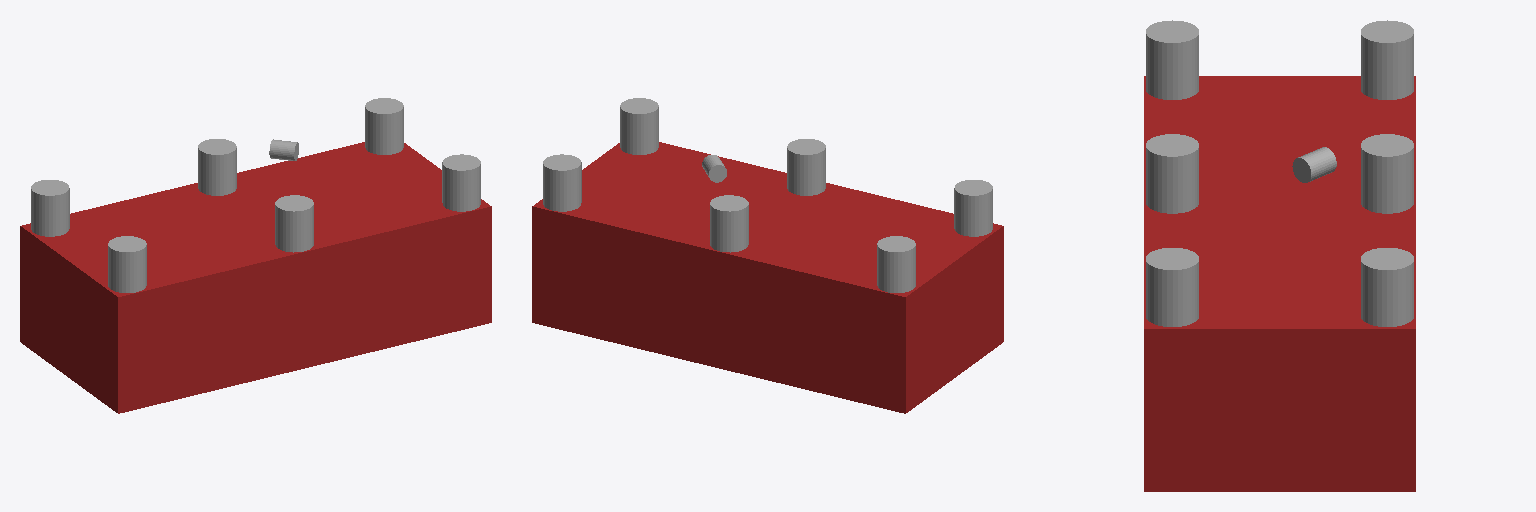
URDF robot description (fairino5_v6_robot):
<?xml version="1.0" encoding="utf-8"?>
<!-- This URDF was automatically created by SolidWorks to URDF Exporter! Originally created by Stephen Brawner (brawner@gmail.com) 
     Commit Version: 1.5.1-0-g916b5db  Build Version: 1.5.7152.31018
     For more information, please see http://wiki.ros.org/sw_urdf_exporter -->
<robot
  name="fairino5_v6_robot">
  <link
    name="base_link">
    <inertial>
      <origin
        xyz="-0.00031896 -0.00029673 0.042463"
        rpy="0 0 0" />
      <mass
        value="1.6185" />
      <inertia
        ixx="0.0030836"
        ixy="1.5354E-05"
        ixz="-1.9315E-05"
        iyy="0.0030825"
        iyz="-1.7918E-05"
        izz="0.0045209" />
    </inertial>
    <visual>
      <origin
        xyz="0 0 0"
        rpy="0 0 0" />
      <geometry>
        <mesh
          filename="package://fairino_description/meshes/fairino5_v6/base_link.STL" />
      </geometry>
      <material
        name="">
        <color
          rgba="0.89804 0.91765 0.92941 1" />
      </material>
    </visual>
    <collision>
      <origin
        xyz="0 0 0"
        rpy="0 0 0" />
      <geometry>
        <mesh
          filename="package://fairino_description/meshes/fairino5_v6/base_link.STL" />
      </geometry>
    </collision>
  </link>

  <!-- ===== Added cylinder link under base_link ===== -->
  <link name="zylinder_base">
    <!-- Optional inertial (recommended if you use physics sim) -->
    <inertial>
      <origin xyz="0 0 0" rpy="0 0 0"/>
      <mass value="0.1"/>
      <!-- Rough inertia for a solid cylinder aligned with Z axis (placeholder values) -->
      <inertia ixx="1e-4" ixy="0" ixz="0" iyy="1e-4" iyz="0" izz="1e-4"/>
    </inertial>

    <collision name="zylinder_collision">
      <origin xyz="0 0 0" rpy="0 0 0"/>
      <geometry>
        <cylinder radius="0.150" length="0.353"/>
      </geometry>
    </collision>

    <visual name="zylinder_visual">
      <origin xyz="0 0 0" rpy="0 0 0"/>
      <geometry>
        <cylinder radius="0.150" length="0.353"/>
      </geometry>
      <material name="zylinder_mat">
        <color rgba="0.7 0.7 0.7 0.2"/>
      </material>
    </visual>
  </link>

  <joint name="base_to_zylinder" type="fixed">
    <parent link="zylinder_base"/>
    <child link="base_link"/>
    <!-- 
      Letakkan cylinder "di bawah" base_link (arah -Z).
      Ubah nilai z sesuai kebutuhan. Contoh: z = -0.2 artinya 20 cm di bawah base_link.
    -->
    <origin xyz="0 0 0.175" rpy="0 0 3.92699"/>
  </joint>
  <!-- ===== End added cylinder ===== -->

  <!-- ===== Added cylinder link  ===== -->
  <link name="zylinder_1_link">
    <!-- Optional inertial (recommended if you use physics sim) -->
    <inertial>
      <origin xyz="0 0 0" rpy="0 0 0"/>
      <mass value="0.1"/>
      <!-- Rough inertia for a solid cylinder aligned with Z axis (placeholder values) -->
      <inertia ixx="1e-4" ixy="0" ixz="0" iyy="1e-4" iyz="0" izz="1e-4"/>
    </inertial>

    <collision name="zylinder1_collision">
      <origin xyz="0 0 0" rpy="0 0 0"/>
      <geometry>
        <cylinder radius="0.150" length="0.353"/>
      </geometry>
    </collision>

    <visual name="zylinder1_visual">
      <origin xyz="0 0 0" rpy="0 0 0"/>
      <geometry>
        <cylinder radius="0.150" length="0.353"/>
      </geometry>
      <material name="zylinder1_mat">
        <color rgba="0.7 0.7 0.7 0.2"/>
      </material>
    </visual>
  </link>
  <!-- ===== End added cylinder ===== -->

  <!-- ===== Added cylinder link  ===== -->
  <link name="zylinder_2_link">
    <!-- Optional inertial (recommended if you use physics sim) -->
    <inertial>
      <origin xyz="0 0 0" rpy="0 0 0"/>
      <mass value="0.1"/>
      <!-- Rough inertia for a solid cylinder aligned with Z axis (placeholder values) -->
      <inertia ixx="1e-4" ixy="0" ixz="0" iyy="1e-4" iyz="0" izz="1e-4"/>
    </inertial>

    <collision name="zylinder2_collision">
      <origin xyz="0 0 0" rpy="0 0 0"/>
      <geometry>
        <cylinder radius="0.150" length="0.353"/>
      </geometry>
    </collision>

    <visual name="zylinder2_visual">
      <origin xyz="0 0 0" rpy="0 0 0"/>
      <geometry>
        <cylinder radius="0.150" length="0.353"/>
      </geometry>
      <material name="zylinder2_mat">
        <color rgba="0.7 0.7 0.7 0.2"/>
      </material>
    </visual>
  </link>
  <!-- ===== End added cylinder ===== -->

  <!-- ===== Added cylinder link  ===== -->
  <link name="zylinder_3_link">
    <!-- Optional inertial (recommended if you use physics sim) -->
    <inertial>
      <origin xyz="0 0 0" rpy="0 0 0"/>
      <mass value="0.1"/>
      <!-- Rough inertia for a solid cylinder aligned with Z axis (placeholder values) -->
      <inertia ixx="1e-4" ixy="0" ixz="0" iyy="1e-4" iyz="0" izz="1e-4"/>
    </inertial>

    <collision name="zylinder3_collision">
      <origin xyz="0 0 0" rpy="0 0 0"/>
      <geometry>
        <cylinder radius="0.150" length="0.353"/>
      </geometry>
    </collision>

    <visual name="zylinder3_visual">
      <origin xyz="0 0 0" rpy="0 0 0"/>
      <geometry>
        <cylinder radius="0.150" length="0.353"/>
      </geometry>
      <material name="zylinder3_mat">
        <color rgba="0.7 0.7 0.7 0.2"/>
      </material>
    </visual>
  </link>
  <!-- ===== End added cylinder ===== -->

  <!-- ===== Added cylinder link  ===== -->
  <link name="zylinder_4_link">
    <!-- Optional inertial (recommended if you use physics sim) -->
    <inertial>
      <origin xyz="0 0 0" rpy="0 0 0"/>
      <mass value="0.1"/>
      <!-- Rough inertia for a solid cylinder aligned with Z axis (placeholder values) -->
      <inertia ixx="1e-4" ixy="0" ixz="0" iyy="1e-4" iyz="0" izz="1e-4"/>
    </inertial>

    <collision name="zylinder4_collision">
      <origin xyz="0 0 0" rpy="0 0 0"/>
      <geometry>
        <cylinder radius="0.150" length="0.353"/>
      </geometry>
    </collision>

    <visual name="zylinder4_visual">
      <origin xyz="0 0 0" rpy="0 0 0"/>
      <geometry>
        <cylinder radius="0.150" length="0.353"/>
      </geometry>
      <material name="zylinder4_mat">
        <color rgba="0.7 0.7 0.7 0.2"/>
      </material>
    </visual>
  </link>
  <!-- ===== End added cylinder ===== -->

  <!-- ===== Added cylinder link  ===== -->
  <link name="zylinder_5_link">
    <!-- Optional inertial (recommended if you use physics sim) -->
    <inertial>
      <origin xyz="0 0 0" rpy="0 0 0"/>
      <mass value="0.1"/>
      <!-- Rough inertia for a solid cylinder aligned with Z axis (placeholder values) -->
      <inertia ixx="1e-4" ixy="0" ixz="0" iyy="1e-4" iyz="0" izz="1e-4"/>
    </inertial>

    <collision name="zylinder5_collision">
      <origin xyz="0 0 0" rpy="0 0 0"/>
      <geometry>
        <cylinder radius="0.150" length="0.353"/>
      </geometry>
    </collision>

    <visual name="zylinder5_visual">
      <origin xyz="0 0 0" rpy="0 0 0"/>
      <geometry>
        <cylinder radius="0.150" length="0.353"/>
      </geometry>
      <material name="zylinder5_mat">
        <color rgba="0.7 0.7 0.7 0.2"/>
      </material>
    </visual>
  </link>
  <!-- ===== End added cylinder ===== -->

  <!-- ===== Added Tisch link under zylinder_base ===== -->
  <link name="Tisch">
    <inertial>
      <origin xyz="0 0 0" rpy="0 0 0"/>
      <mass value="100"/>
      <inertia ixx="1e-4" ixy="0" ixz="0" iyy="1e-4" iyz="0" izz="1e-4"/>
    </inertial>

    <collision name="tisch_collision">
      <origin xyz="0 0 0" rpy="0 0 0"/>
      <geometry>
          <box size="3.35 1.52 1"/>
      </geometry>
    </collision>

    <visual name="tisch_visual">
      <origin xyz="0 0 0" rpy="0 0 0"/>
      <geometry>
          <box size="3.35 1.52 1"/>
      </geometry>
      <material name="tisch_mat">
        <color rgba="0.7 0.2 0.2 1"/>
      </material>
    </visual>
  </link>

  <joint name="Tisch_Joint" type="fixed">
    <parent link="Tisch"/>
    <child link="zylinder_base"/>
    <origin xyz="0 -0.6 0.675" rpy="0 0 0"/>
  </joint>

  <joint name="Tisch_Zylinder1_Joint" type="fixed">
    <parent link="Tisch"/>
    <child link="zylinder_1_link"/>
    <origin xyz="1.5 -0.6 0.675" rpy="0 0 0"/>
  </joint>

  <joint name="Tisch_Zylinder2_Joint" type="fixed">
    <parent link="Tisch"/>
    <child link="zylinder_2_link"/>
    <origin xyz="-1.5 -0.6 0.675" rpy="0 0 0"/>
  </joint>

  <joint name="Tisch_Zylinder3_Joint" type="fixed">
    <parent link="Tisch"/>
    <child link="zylinder_3_link"/>
    <origin xyz="0 0.6 0.675" rpy="0 0 0"/>
  </joint>

  <joint name="Tisch_Zylinder4_Joint" type="fixed">
    <parent link="Tisch"/>
    <child link="zylinder_4_link"/>
    <origin xyz="1.5 0.6 0.675" rpy="0 0 0"/>
  </joint>

  <joint name="Tisch_Zylinder5_Joint" type="fixed">
    <parent link="Tisch"/>
    <child link="zylinder_5_link"/>
    <origin xyz="-1.5 0.6 0.675" rpy="0 0 0"/>
  </joint>

  <!-- ===== End added Tisch ===== -->

  <link
    name="shoulder_link">
    <inertial>
      <origin
        xyz="5.0029E-07 -0.0040922 0.14629"
        rpy="0 0 0" />
      <mass
        value="4.3771" />
      <inertia
        ixx="0.010731"
        ixy="-8.0587E-09"
        ixz="-3.6773E-08"
        iyy="0.010408"
        iyz="0.00012853"
        izz="0.0081793" />
    </inertial>
    <visual>
      <origin
        xyz="0 0 0"
        rpy="0 0 0" />
      <geometry>
        <mesh
          filename="package://fairino_description/meshes/fairino5_v6/shoulder_link.STL" />
      </geometry>
      <material
        name="">
        <color
          rgba="0.89804 0.91765 0.92941 1" />
      </material>
    </visual>
    <collision>
      <origin
        xyz="0 0 0"
        rpy="0 0 0" />
      <geometry>
        <mesh
          filename="package://fairino_description/meshes/fairino5_v6/shoulder_link.STL" />
      </geometry>
    </collision>
  </link>
  <joint
    name="j1"
    type="revolute">
    <origin
      xyz="0 0 0"
      rpy="0 0 0" />
    <parent
      link="base_link" />
    <child
      link="shoulder_link" />
    <axis
      xyz="0 0 1" />
    <limit
      lower="-3.0543"
      upper="3.0543"
      effort="150"
      velocity="3.15" />
    <calibration
      rising="0"
      falling="0" />
    <dynamics
      damping="0"
      friction="0" />
    <safety_controller
      soft_lower_limit="-3.0543"
      soft_upper_limit="3.0543"
      k_position="15"
      k_velocity="10" />
  </joint>
  <link
    name="upperarm_link">
    <inertial>
      <origin
        xyz="-0.2125 -5.7643E-09 0.1346"
        rpy="0 0 0" />
      <mass
        value="14.458" />
      <inertia
        ixx="0.028392"
        ixy="-1.337E-07"
        ixz="-3.9895E-09"
        iyy="0.4559"
        iyz="4.214E-08"
        izz="0.44974" />
    </inertial>
    <visual>
      <origin
        xyz="0 0 0"
        rpy="0 0 0" />
      <geometry>
        <mesh
          filename="package://fairino_description/meshes/fairino5_v6/upperarm_link.STL" />
      </geometry>
      <material
        name="">
        <color
          rgba="0.89804 0.91765 0.92941 1" />
      </material>
    </visual>
    <collision>
      <origin
        xyz="0 0 0"
        rpy="0 0 0" />
      <geometry>
        <mesh
          filename="package://fairino_description/meshes/fairino5_v6/upperarm_link.STL" />
      </geometry>
    </collision>
  </link>
  <joint
    name="j2"
    type="revolute">
    <origin
      xyz="0 0 0.152"
      rpy="1.5708 0 0" />
    <parent
      link="shoulder_link" />
    <child
      link="upperarm_link" />
    <axis
      xyz="0 0 1" />
    <limit
      lower="-4.6251"
      upper="1.4835"
      effort="150"
      velocity="3.15" />
    <calibration
      rising="0"
      falling="0" />
    <dynamics
      damping="0"
      friction="0" />
    <safety_controller
      soft_lower_limit="-4.6251"
      soft_upper_limit="1.4835"
      k_position="15"
      k_velocity="10" />
  </joint>
  <link
    name="forearm_link">
    <inertial>
      <origin
        xyz="-0.18793 -8.4503E-07 0.0066357"
        rpy="0 0 0" />
      <mass
        value="7.6737" />
      <inertia
        ixx="0.0085096"
        ixy="2.1613E-06"
        ixz="-0.0068678"
        iyy="0.16971"
        iyz="3.7086E-08"
        izz="0.16854" />
    </inertial>
    <visual>
      <origin
        xyz="0 0 0"
        rpy="0 0 0" />
      <geometry>
        <mesh
          filename="package://fairino_description/meshes/fairino5_v6/forearm_link.STL" />
      </geometry>
      <material
        name="">
        <color
          rgba="0.89804 0.91765 0.92941 1" />
      </material>
    </visual>
    <collision>
      <origin
        xyz="0 0 0"
        rpy="0 0 0" />
      <geometry>
        <mesh
          filename="package://fairino_description/meshes/fairino5_v6/forearm_link.STL" />
      </geometry>
    </collision>
  </link>
  <joint
    name="j3"
    type="revolute">
    <origin
      xyz="-0.425 0 0"
      rpy="0 0 0" />
    <parent
      link="upperarm_link" />
    <child
      link="forearm_link" />
    <axis
      xyz="0 0 1" />
    <limit
      lower="-2.8274"
      upper="2.8274"
      effort="150"
      velocity="3.15" />
    <calibration
      rising="0"
      falling="0" />
    <dynamics
      damping="0"
      friction="0" />
    <safety_controller
      soft_lower_limit="-2.8274"
      soft_upper_limit="2.8274"
      k_position="15"
      k_velocity="10" />
  </joint>
  <link
    name="wrist1_link">
    <inertial>
      <origin
        xyz="4.98E-07 -0.003754 0.097155"
        rpy="0 0 0" />
      <mass
        value="1.6266" />
      <inertia
        ixx="0.00216"
        ixy="4.888E-09"
        ixz="3.1528E-08"
        iyy="0.0015455"
        iyz="3.7678E-05"
        izz="0.0019902" />
    </inertial>
    <visual>
      <origin
        xyz="0 0 0"
        rpy="0 0 0" />
      <geometry>
        <mesh
          filename="package://fairino_description/meshes/fairino5_v6/wrist1_link.STL" />
      </geometry>
      <material
        name="">
        <color
          rgba="0.89804 0.91765 0.92941 1" />
      </material>
    </visual>
    <collision>
      <origin
        xyz="0 0 0"
        rpy="0 0 0" />
      <geometry>
        <mesh
          filename="package://fairino_description/meshes/fairino5_v6/wrist1_link.STL" />
      </geometry>
    </collision>
  </link>
  <joint
    name="j4"
    type="revolute">
    <origin
      xyz="-0.39501 0 0"
      rpy="0 0 0" />
    <parent
      link="forearm_link" />
    <child
      link="wrist1_link" />
    <axis
      xyz="0 0 1" />
    <limit
      lower="-4.6251"
      upper="1.4835"
      effort="28"
      velocity="3.2" />
    <calibration
      rising="0"
      falling="0" />
    <dynamics
      damping="0"
      friction="0" />
    <safety_controller
      soft_lower_limit="-4.6251"
      soft_upper_limit="1.4835"
      k_position="15"
      k_velocity="10" />
  </joint>
  <link
    name="wrist2_link">
    <inertial>
      <origin
        xyz="-4.5588E-07 0.0038617 0.098257"
        rpy="0 0 0" />
      <mass
        value="1.5812" />
      <inertia
        ixx="0.0020612"
        ixy="8.7064E-09"
        ixz="-3.4742E-08"
        iyy="0.0014477"
        iyz="-2.8534E-05"
        izz="0.0019573" />
    </inertial>
    <visual>
      <origin
        xyz="0 0 0"
        rpy="0 0 0" />
      <geometry>
        <mesh
          filename="package://fairino_description/meshes/fairino5_v6/wrist2_link.STL" />
      </geometry>
      <material
        name="">
        <color
          rgba="0.89804 0.91765 0.92941 1" />
      </material>
    </visual>
    <collision>
      <origins
        xyz="0 0 0"
        rpy="0 0 0" />
      <geometry>
        <mesh
          filename="package://fairino_description/meshes/fairino5_v6/wrist2_link.STL" />
      </geometry>
    </collision>
  </link>
  <joint
    name="j5"
    type="revolute">
    <origin
      xyz="0 0 0.1021"
      rpy="1.5708 0 0" />
    <parent
      link="wrist1_link" />
    <child
      link="wrist2_link" />
    <axis
      xyz="0 0 1" />
    <limit
      lower="-3.0543"
      upper="3.0543"
      effort="28"
      velocity="3.2" />
    <calibration
      rising="0"
      falling="0" />
    <dynamics
      damping="0"
      friction="0" />
    <safety_controller
      soft_lower_limit="-3.0543"
      soft_upper_limit="3.0543"
      k_position="15"
      k_velocity="10" />
  </joint>
  <link
    name="wrist3_link">
    <inertial>
      <origin
        xyz="7.7496E-05 1.7751E-05 0.076122"
        rpy="0 0 0" />
      <mass
        value="0.52542" />
      <inertia
        ixx="0.00027721"
        ixy="-1.8677E-09"
        ixz="-1.188E-07"
        iyy="0.00027839"
        iyz="2.2607E-07"
        izz="0.00041605" />
    </inertial>
    <visual>
      <origin
        xyz="0 0 0"
        rpy="0 0 0" />
      <geometry>
        <mesh
          filename="package://fairino_description/meshes/fairino5_v6/wrist3_link.STL" />
      </geometry>
      <material
        name="">
        <color
          rgba="0.89804 0.91765 0.92941 1" />
      </material>
    </visual>
    <collision>
      <origin
        xyz="0 0 0"
        rpy="0 0 0" />
      <geometry>
        <mesh
          filename="package://fairino_description/meshes/fairino5_v6/wrist3_link.STL" />
      </geometry>
    </collision>
  </link>
  <joint
    name="j6"
    type="revolute">
    <origin
      xyz="0 0 0.102"
      rpy="-1.5708 0 0" />
    <parent
      link="wrist2_link" />
    <child
      link="wrist3_link" />
    <axis
      xyz="0 0 1" />
    <limit
      lower="-3.0543"
      upper="3.0543"
      effort="28"
      velocity="3.2" />
    <calibration
      rising="0"
      falling="0" />
    <dynamics
      damping="0"
      friction="0" />
    <safety_controller
      soft_lower_limit="-3.0543"
      soft_upper_limit="3.0543"
      k_position="15"
      k_velocity="10" />
  </joint>

  <!-- ===== Added tool0 at the end (end-effector frame) ===== -->
  <link name="tool0">
    <collision name="tool0_collision">
      <!-- collision pose relatif terhadap frame tool0 -->
      <origin xyz="0 0 -0.1" rpy="0 0 0"/>
      <geometry>
        <!-- Pilih bentuk collision, contoh cylinder -->
        <cylinder radius="0.075" length="0.20"/>
      </geometry>
    </collision>
    <visual name="tool0_visual">
      <!-- collision pose relatif terhadap frame tool0 -->
      <origin xyz="0 0 -0.1" rpy="0 0 0"/>
      <geometry>
        <!-- Pilih bentuk collision, contoh cylinder -->
        <cylinder radius="0.075" length="0.20"/>
      </geometry>
      <material name="tool0_c">
        <color rgba="0.7 0.7 0.7 0.2"/>
      </material>
    </visual>

  </link>

  <joint name="wrist3_to_tool0" type="fixed">
    <parent link="wrist3_link"/>
    <child link="tool0"/>
    <!-- Atur offset tool terhadap wrist3_link (contoh: 10 cm ke arah +Z) -->
    <origin xyz="0 0 0.3" rpy="0 0 0"/>
  </joint>
  <!-- ===== End added tool0 ===== -->

</robot>

--- Facts derived from the render (not from the file) ---
Views: 3 orthographic renders of the robot side by side, from view 1: azimuth 30°, elevation 25°; view 2: azimuth 150°, elevation 25°; view 3: azimuth 270°, elevation 25°.
Model fairino5_v6_robot with 15 links and 14 joints (6 revolute, 8 fixed), rooted at Tisch, posed every joint at zero.
Links seen in each view (by area): view 1: Tisch, zylinder_2_link, zylinder_3_link, zylinder_base, zylinder_1_link, zylinder_4_link, zylinder_5_link, tool0; view 2: Tisch, zylinder_base, zylinder_5_link, zylinder_3_link, zylinder_1_link, zylinder_4_link, zylinder_2_link; view 3: Tisch, zylinder_base, zylinder_3_link, zylinder_2_link, zylinder_5_link, zylinder_1_link, zylinder_4_link, tool0.
Link boxes in pixels (bbox=[...]): Tisch: bbox=[20, 142, 491, 413]; zylinder_2_link: bbox=[108, 236, 146, 292]; zylinder_3_link: bbox=[198, 139, 236, 195]; zylinder_base: bbox=[275, 195, 313, 252]; zylinder_1_link: bbox=[442, 154, 480, 211]; zylinder_4_link: bbox=[365, 98, 403, 154]; zylinder_5_link: bbox=[31, 180, 69, 236]; tool0: bbox=[269, 139, 298, 160]; Tisch: bbox=[532, 142, 1003, 413]; zylinder_base: bbox=[787, 139, 825, 195]; zylinder_5_link: bbox=[877, 236, 915, 292]; zylinder_3_link: bbox=[710, 195, 748, 252]; zylinder_1_link: bbox=[620, 98, 658, 154]; zylinder_4_link: bbox=[543, 154, 581, 211]; zylinder_2_link: bbox=[954, 180, 992, 236]; Tisch: bbox=[1144, 76, 1415, 491]; zylinder_base: bbox=[1146, 134, 1198, 213]; zylinder_3_link: bbox=[1361, 134, 1413, 213]; zylinder_2_link: bbox=[1146, 20, 1198, 99]; zylinder_5_link: bbox=[1361, 20, 1413, 99]; zylinder_1_link: bbox=[1146, 248, 1198, 326]; zylinder_4_link: bbox=[1361, 248, 1413, 326]; tool0: bbox=[1292, 147, 1336, 182].
Bounding box of the posed robot: 3.35 × 1.52 × 1.48 m (x, y, z).
0 mesh visuals loaded from 7 distinct referenced files (none loaded); not drawn: 7 (reference not matched to a file when rendering).
